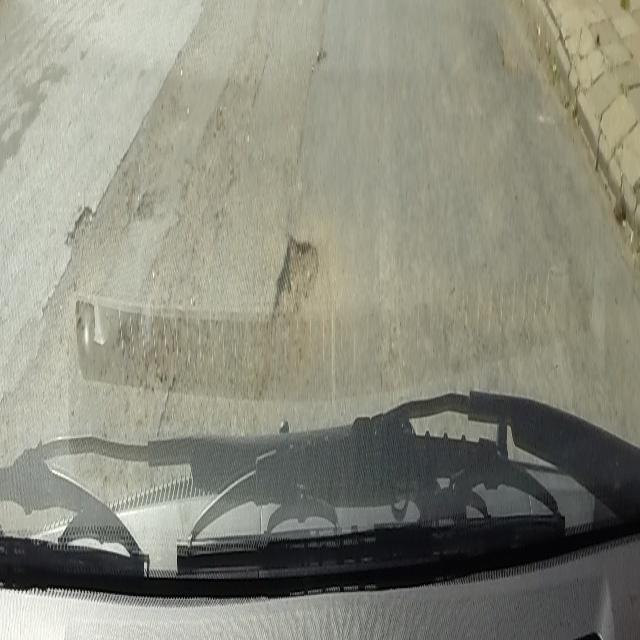pothole: (268, 225, 320, 322), (64, 208, 94, 254)
